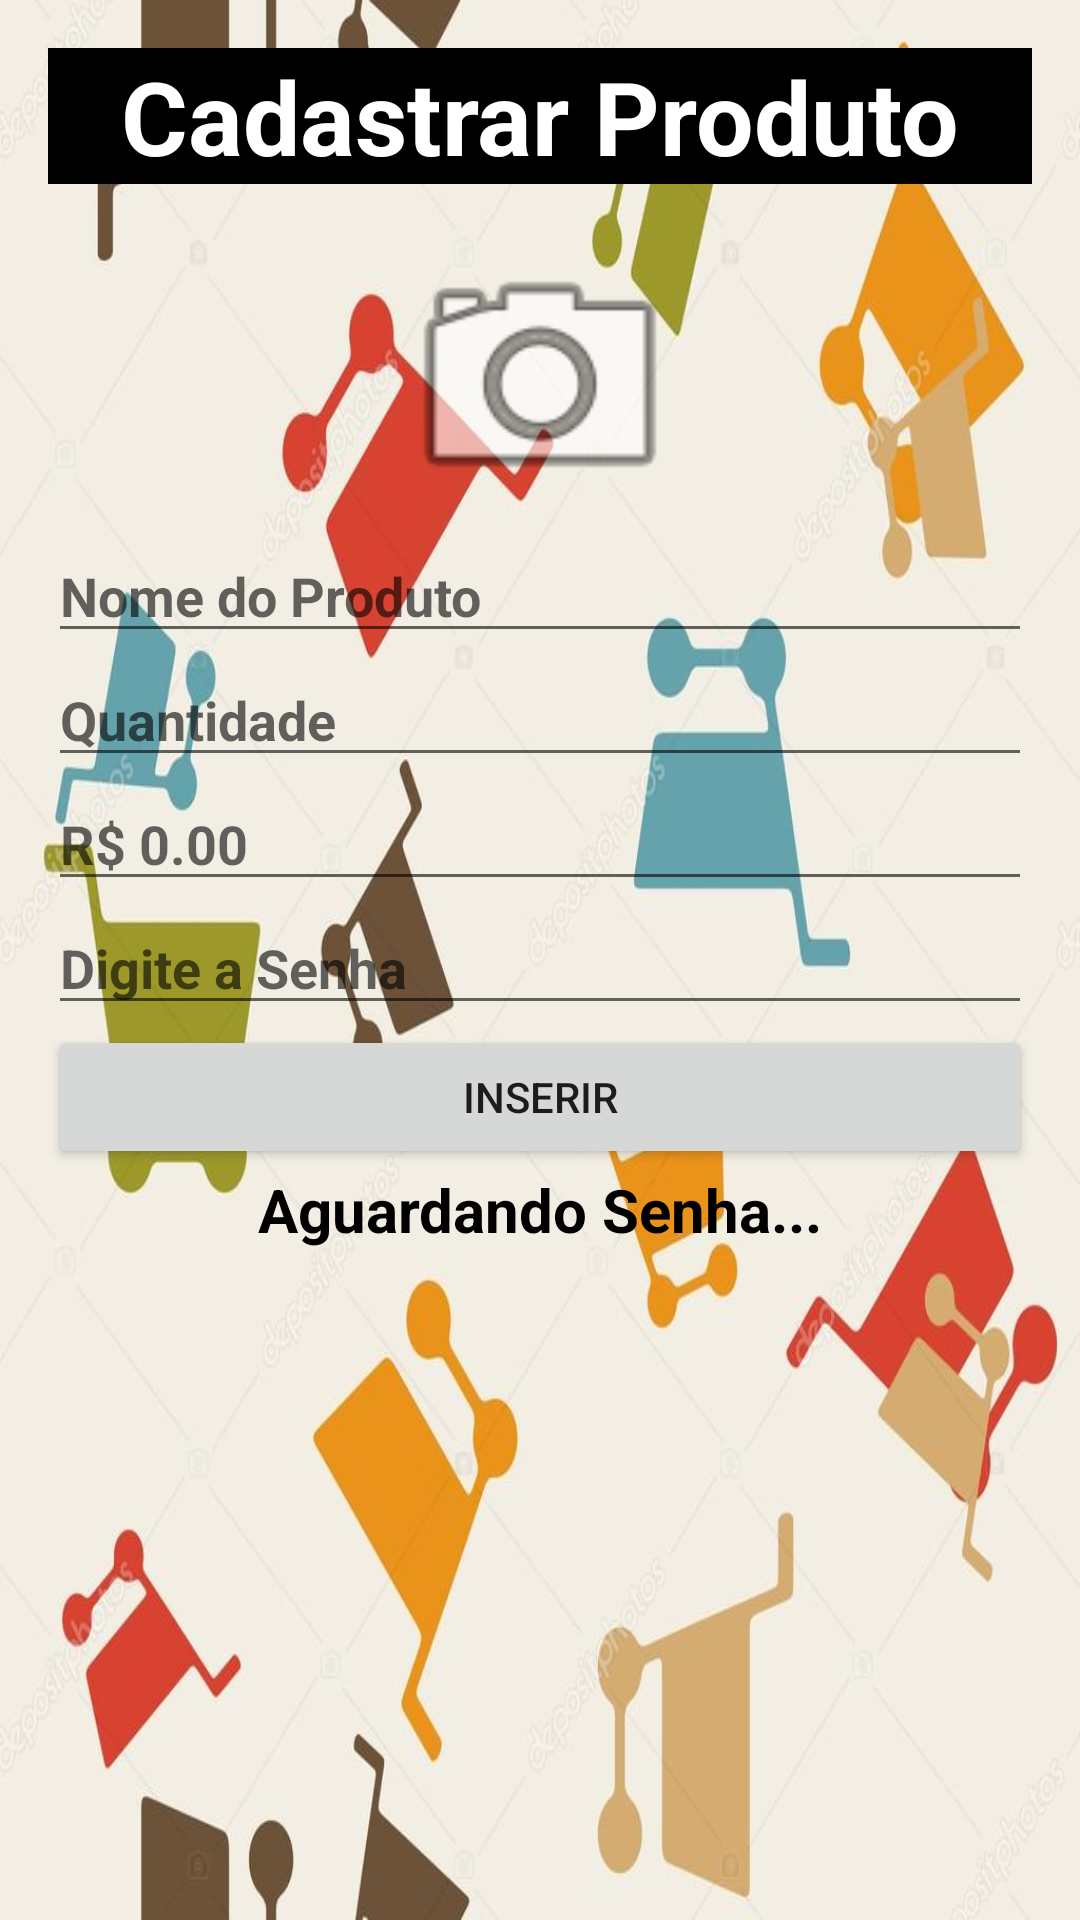

Icons on this 1080*1920 Android screen, each with the point to tap as point (x, y):
camera: point (540, 379)
